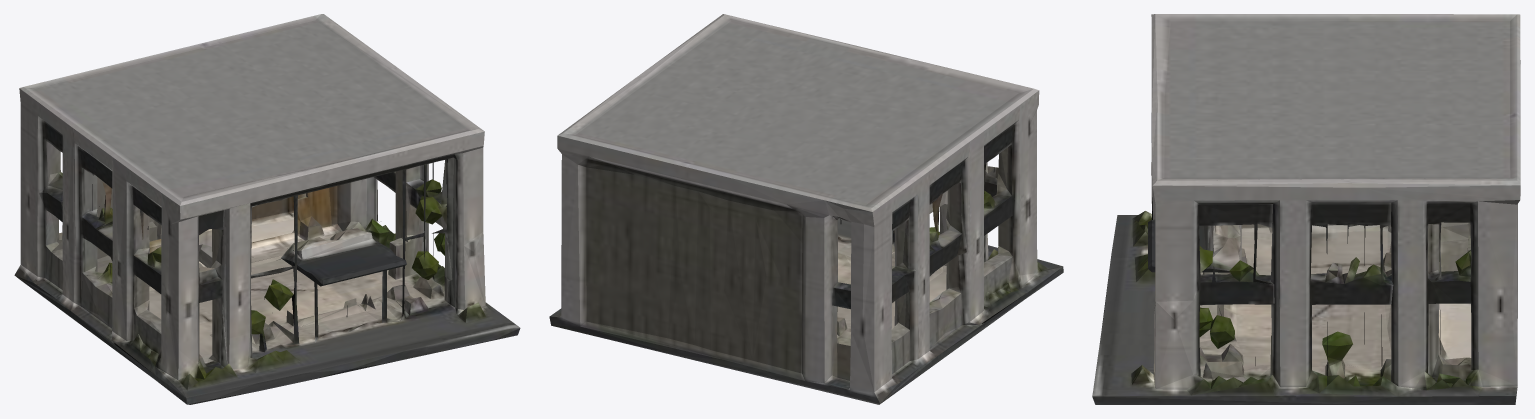
Rendered from kit2-base.glb.
3 views of the same model, side by side, from view 1: azimuth 30°, elevation 25°; view 2: azimuth 150°, elevation 25°; view 3: azimuth 270°, elevation 25° (orthographic). The views are drawn at different scales.
Visible parts, largest first — view 1: Mesh_0.001; view 2: Mesh_0.001; view 3: Mesh_0.001.
Part boxes in pixels (bbox=[...]): Mesh_0.001: bbox=[14, 14, 520, 404]; Mesh_0.001: bbox=[549, 14, 1063, 404]; Mesh_0.001: bbox=[1092, 14, 1520, 404].
Size of the model in its own units: 0.9992 by 0.5604 by 1.
Materials: 1 (1 with a texture image).
